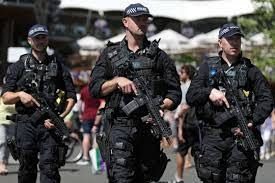gun: (208, 66, 257, 150), (120, 70, 169, 142), (21, 76, 71, 137)
uniform: (97, 39, 170, 176), (197, 51, 260, 181), (8, 52, 66, 174)
